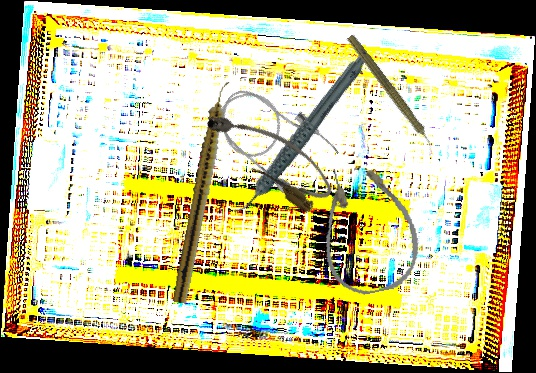Cannula: (203, 70, 345, 205), (198, 92, 342, 219), (309, 156, 427, 301)
Handpiece: (204, 51, 395, 217), (171, 79, 235, 305), (342, 32, 442, 158)
